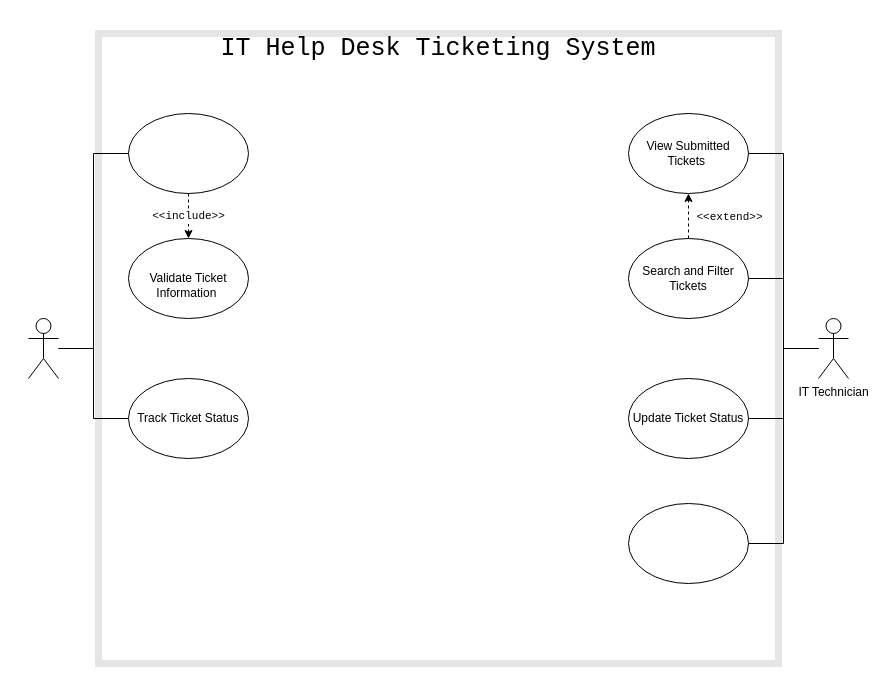
The diagram is 886 pixels wide and 696 high, and some of its shapes have lost their labels. Here are the shapes that lost their labels. From the top down, the centre of each, then its label:
At point (188, 153): "Create Support Ticket".
At point (43, 348): "Employee".
At point (688, 543): "Assign Support Ticket".
